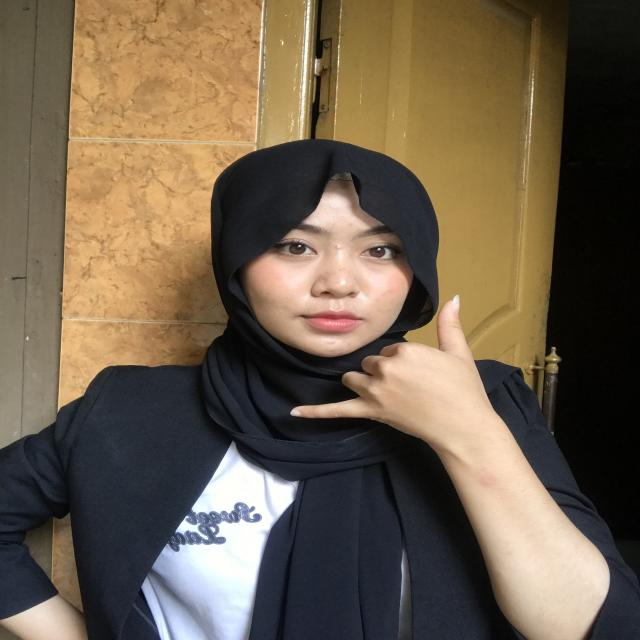telpon: (270, 294, 516, 496)
